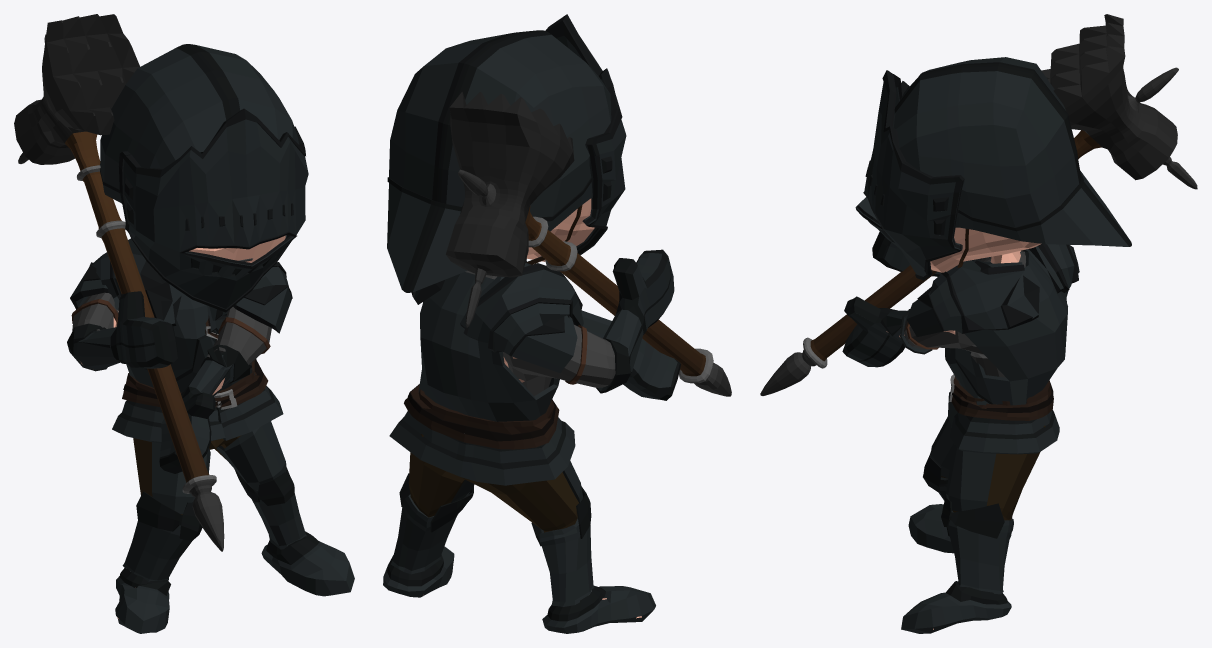
The model's file is Rogue_Knight_Pose.fbx.
3 renders of one model, left to right at view 1: azimuth 30°, elevation 25°; view 2: azimuth 150°, elevation 25°; view 3: azimuth 270°, elevation 25°, orthographic. The views are drawn at different scales.
Parts seen in each view (by area): view 1: Cube.001; view 2: Cube.001; view 3: Cube.001.
Part boxes in pixels (left/top/right/bottom): Cube.001: left=14, top=14, right=354, bottom=633; Cube.001: left=383, top=14, right=731, bottom=633; Cube.001: left=760, top=14, right=1197, bottom=633.
Size of the model in its own units: 189 by 407 by 302.
